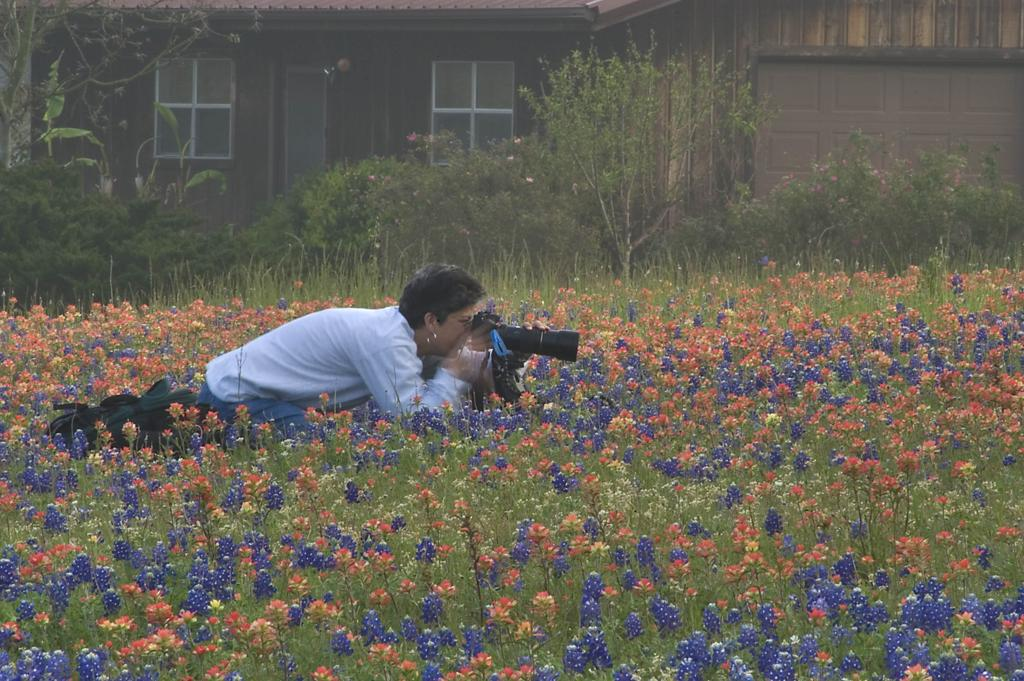face: (433, 304, 474, 359)
